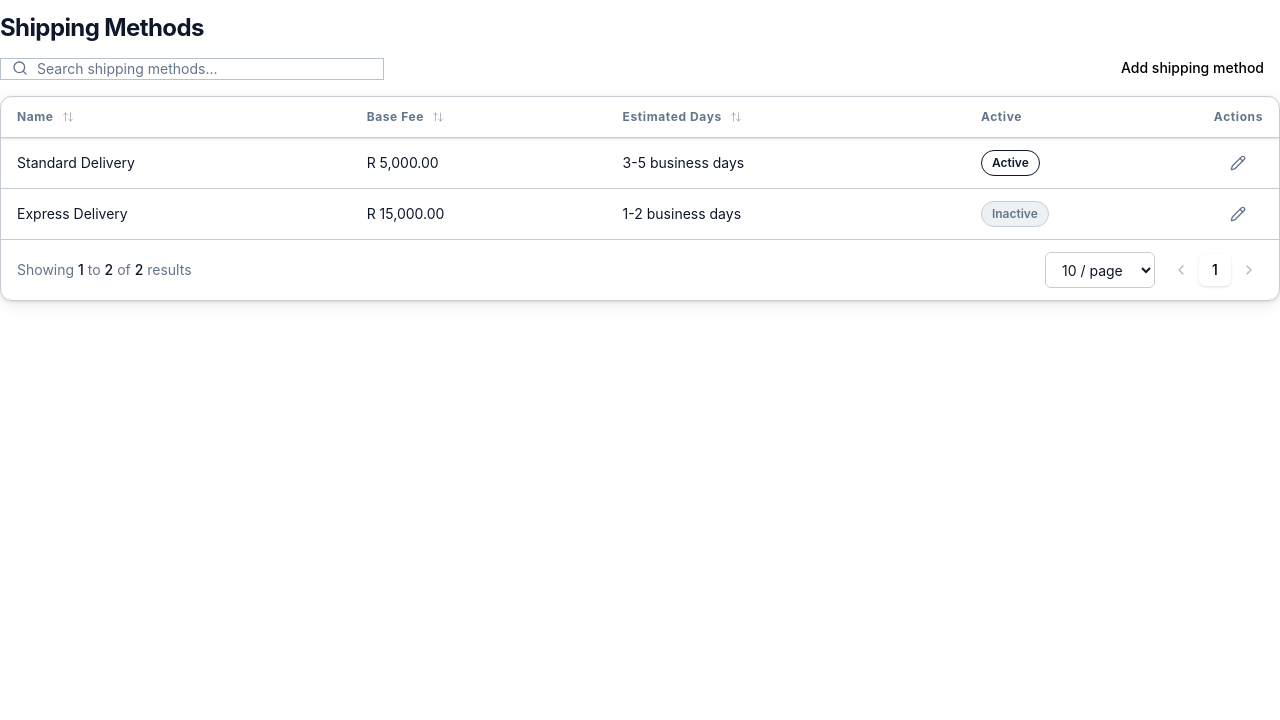
Test: ShippingMethodDialog defaultValues re-initialization › shows the correct method values when reopened for a different method after being closed
This screenshot has width=1280, height=720.
Click the button named "Edit Standard Delivery".
click(1238, 163)  # box x1=1226 y1=151 x2=1250 y2=175
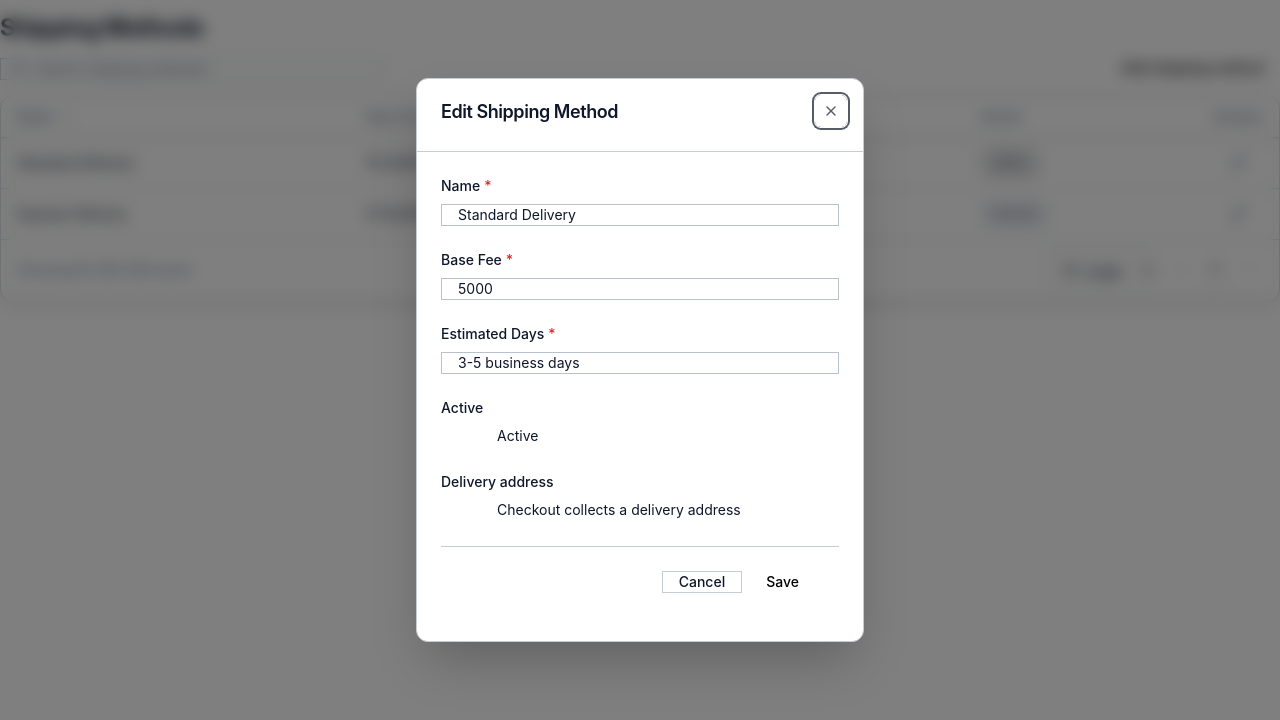
Expected: the field labelled "Name*" holds "Standard Delivery", x1=441 y1=204 x2=839 y2=226
Click the button "Cancel".
click(702, 582)  # box x1=662 y1=571 x2=742 y2=593
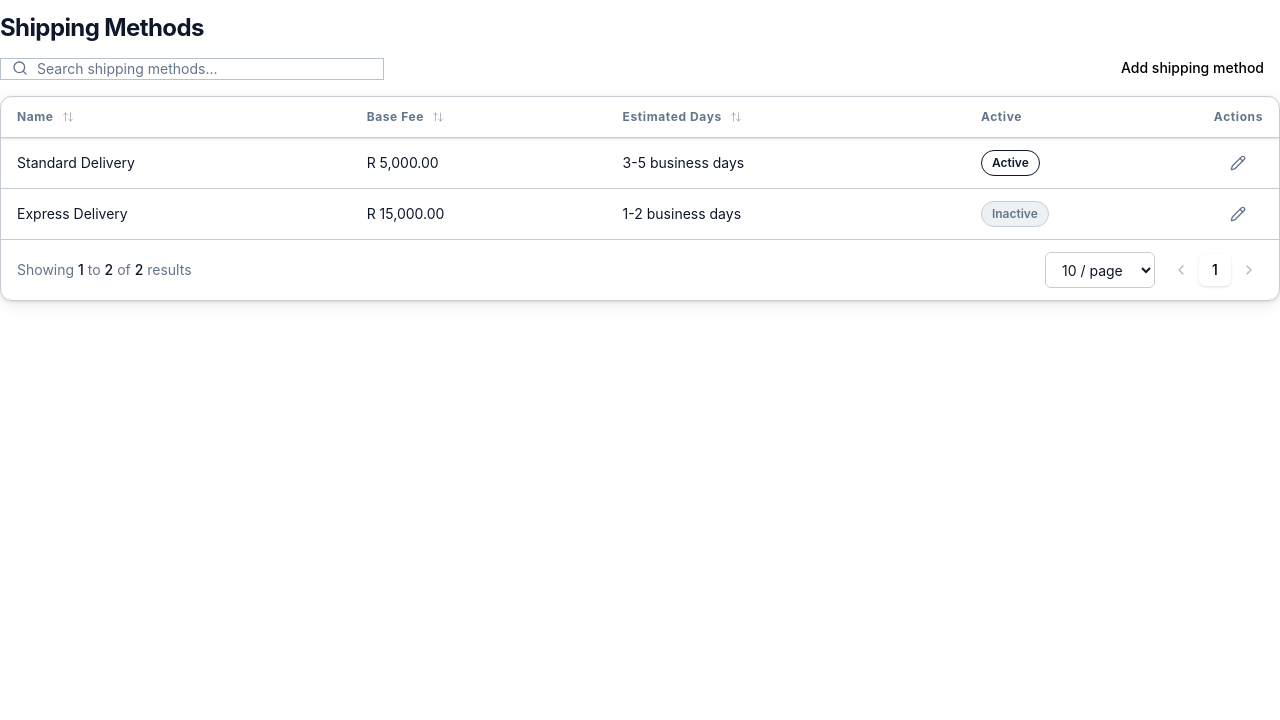
Expected: the dialog is gone
Click the button named "Edit Express Delivery".
click(1238, 214)  # box x1=1226 y1=202 x2=1250 y2=226
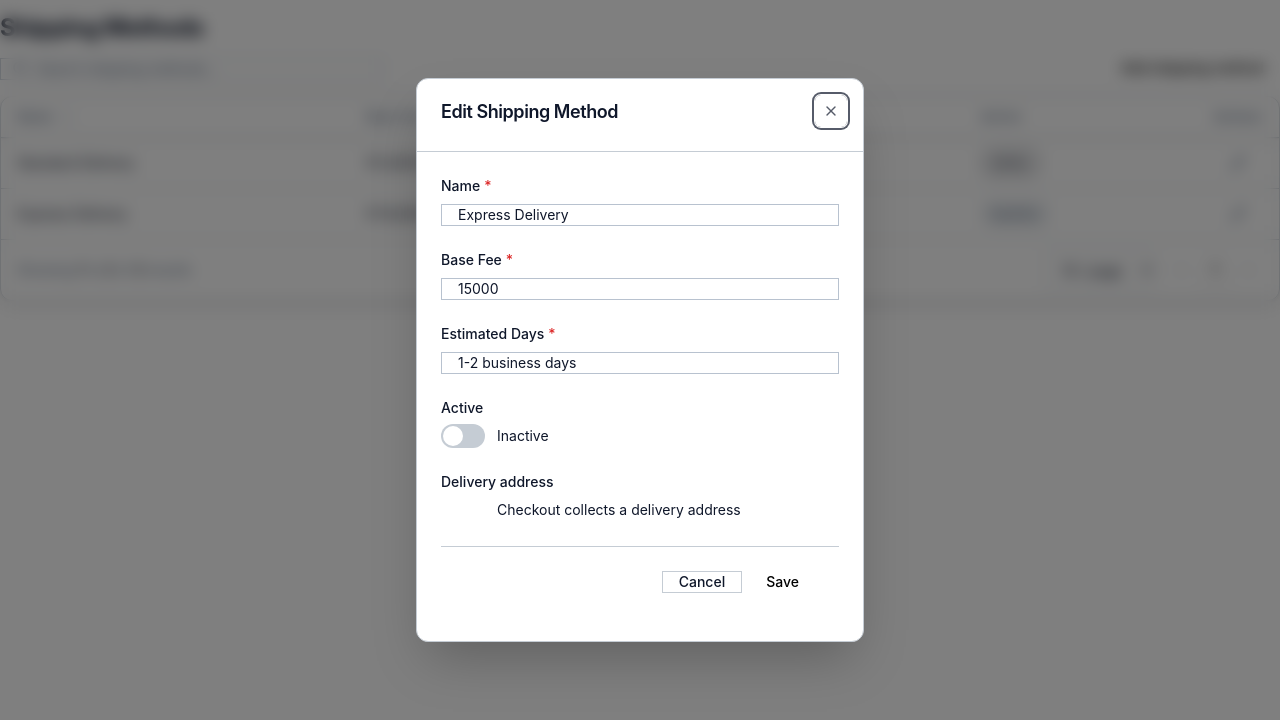
Expected: the field labelled "Name*" holds "Express Delivery", x1=441 y1=204 x2=839 y2=226
Expected: the field labelled "Estimated Days*" holds "1-2 business days", x1=441 y1=352 x2=839 y2=374
